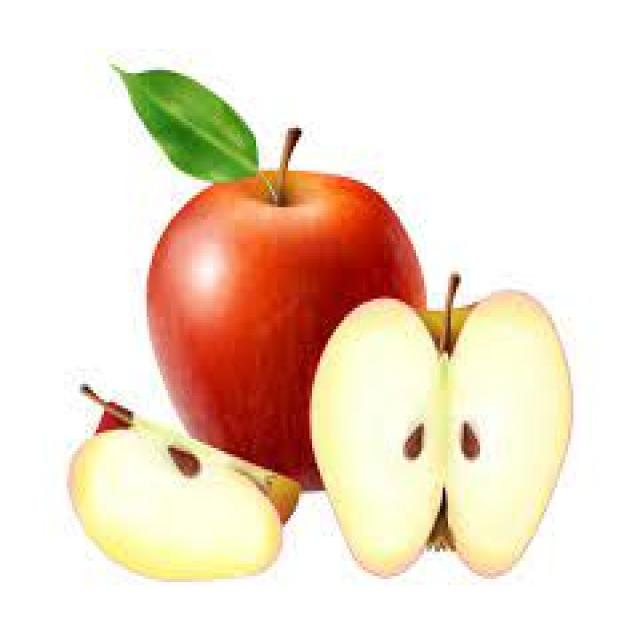apple: (139, 144, 441, 476)
